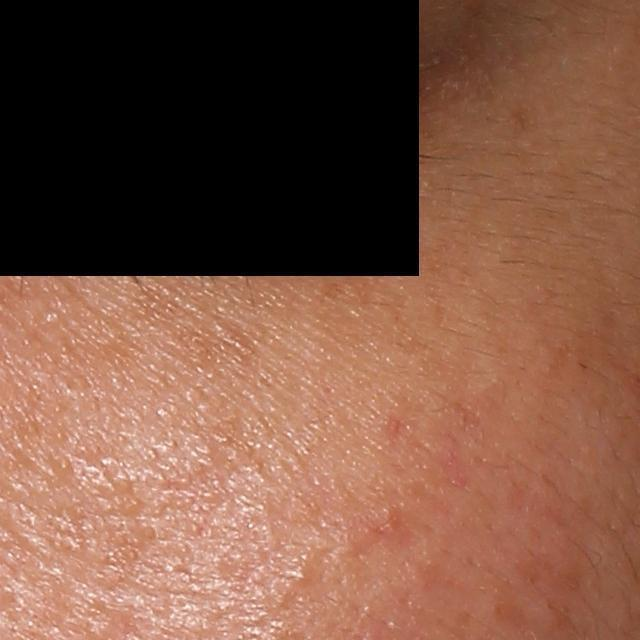comedo: (288, 565, 312, 588)
